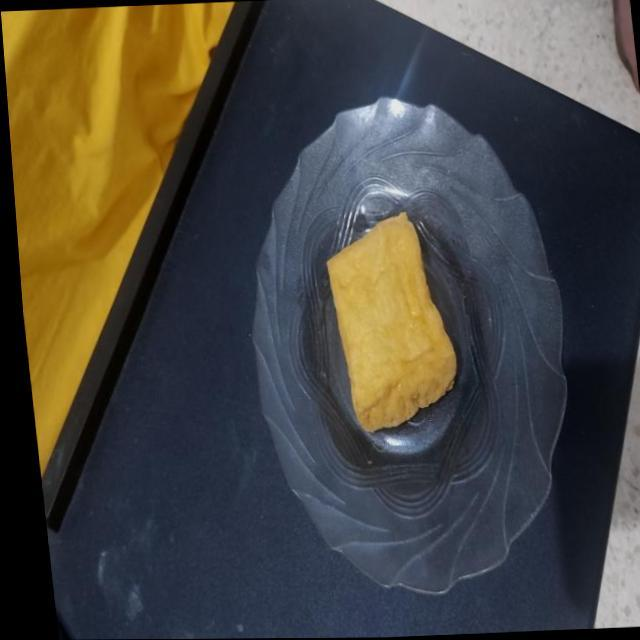tahu_goreng: (326, 212, 456, 432)
